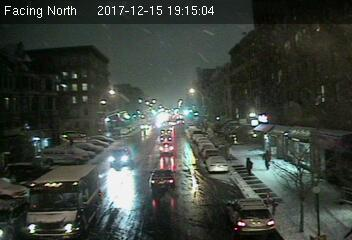car: (226, 198, 274, 235), (148, 168, 175, 188), (109, 147, 132, 166), (205, 156, 229, 171), (158, 143, 175, 154), (159, 134, 172, 142)
pedestrian: (243, 156, 255, 176), (262, 149, 271, 169)
ups: (28, 164, 100, 237)
